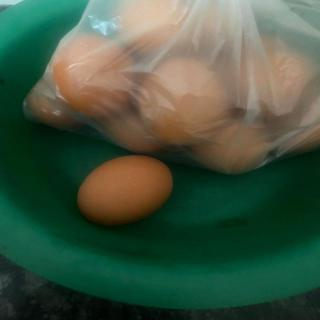Telur: (77, 153, 175, 227), (55, 36, 143, 118), (145, 60, 229, 143), (229, 36, 305, 114), (115, 2, 207, 56), (201, 123, 269, 178), (105, 113, 171, 153), (29, 82, 73, 132), (282, 114, 320, 161)
